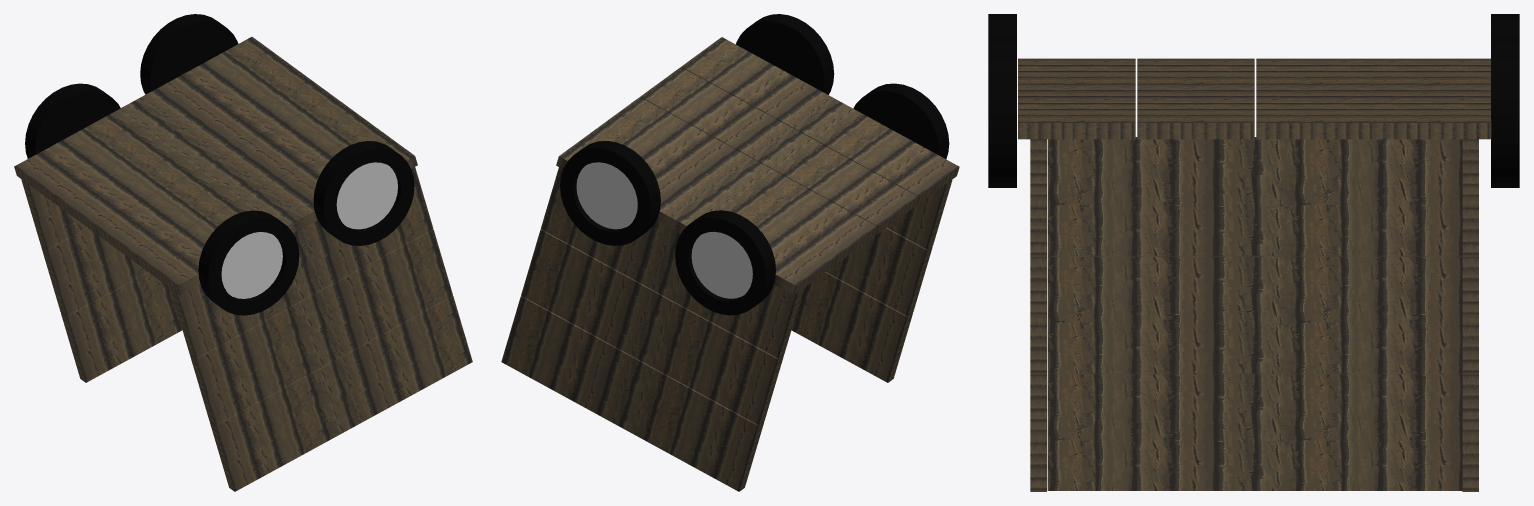
The model's file is wagon.obj.
3 renders of one model, left to right at view 1: azimuth 30°, elevation 25°; view 2: azimuth 150°, elevation 25°; view 3: azimuth 270°, elevation 25°, orthographic. The views are drawn at different scales.
Parts seen in each view (by area): view 1: Cube.004_Cube.035, Cube.003_Cube.034, Cube.010_Cube.041, Cube.009_Cube.040, Cube.012_Cube.043, Cube.005_Cube.036, Circle.002_Circle.003, Circle.003_Circle.004, Cube.011_Cube.042, Cube.006_Cube.037, Cube.007_Cube.038, Circle.001_Circle.002 (+2 smaller); view 2: Cube.007_Cube.038, Cube.006_Cube.037, Cube.011_Cube.042, Cube.010_Cube.041, Cube.009_Cube.040, Cube.008_Cube.039, Circle.001_Circle.002, Circle_Circle.001, Cube.003_Cube.034, Cube.012_Cube.043, Cube.004_Cube.035, Circle.003_Circle.004 (+2 smaller); view 3: Cube.001_Cube.032, Cube_Cube.031, Cube.002_Cube.033, Cube.012_Cube.043, Cube.009_Cube.040, Cube.010_Cube.041, Cube.011_Cube.042, Circle.001_Circle.002, Circle.003_Circle.004, Cube.004_Cube.035, Cube.007_Cube.038, Cube.003_Cube.034 (+5 smaller).
Part boxes in pixels (x1,y1,x2,y2): Cube.004_Cube.035: (190,229,452,425); Cube.003_Cube.034: (210,295,472,491); Cube.010_Cube.041: (95,96,374,264); Cube.009_Cube.040: (54,66,332,234); Cube.012_Cube.043: (14,37,292,204); Cube.005_Cube.036: (170,167,433,358); Circle.002_Circle.003: (198,210,299,315); Circle.003_Circle.004: (313,141,414,245); Cube.011_Cube.042: (137,126,417,294); Cube.006_Cube.037: (61,272,182,382); Cube.007_Cube.038: (41,227,147,316); Circle.001_Circle.002: (140,14,238,94); Cube.007_Cube.038: (521,229,783,425); Cube.006_Cube.037: (501,296,764,491); Cube.011_Cube.042: (681,37,959,205); Cube.010_Cube.041: (640,67,918,235); Cube.009_Cube.040: (599,97,877,265); Cube.008_Cube.039: (540,167,803,358); Circle.001_Circle.002: (560,141,660,245); Circle_Circle.001: (675,210,775,315); Cube.003_Cube.034: (791,272,912,382); Cube.012_Cube.043: (556,126,836,295); Cube.004_Cube.035: (826,227,932,316); Circle.003_Circle.004: (736,14,834,94); Cube.001_Cube.032: (1047,255,1462,373); Cube_Cube.031: (1047,373,1462,490); Cube.002_Cube.033: (1047,137,1462,255); Cube.012_Cube.043: (1373,58,1491,139); Cube.009_Cube.040: (1256,58,1373,139); Cube.010_Cube.041: (1137,58,1254,139); Cube.011_Cube.042: (1018,58,1135,139); Circle.001_Circle.002: (1491,35,1519,187); Circle.003_Circle.004: (988,35,1016,187); Cube.004_Cube.035: (1030,256,1046,374); Cube.007_Cube.038: (1462,256,1478,374); Cube.003_Cube.034: (1030,374,1046,491).
Bounding box in the file's own units: 4.34 × 4.48 × 4.59.
